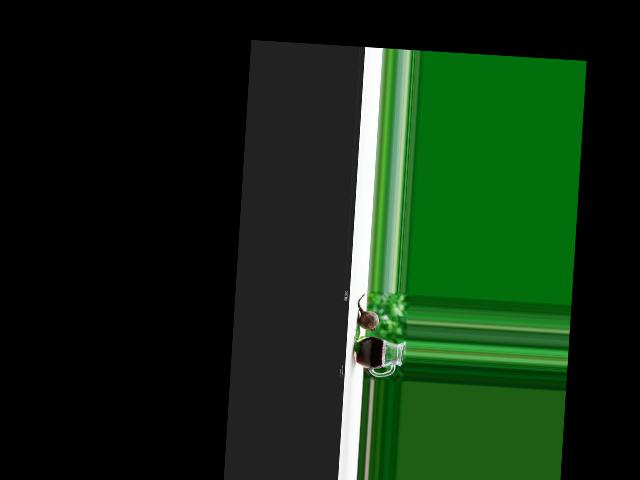beet: (355, 293, 379, 331)
